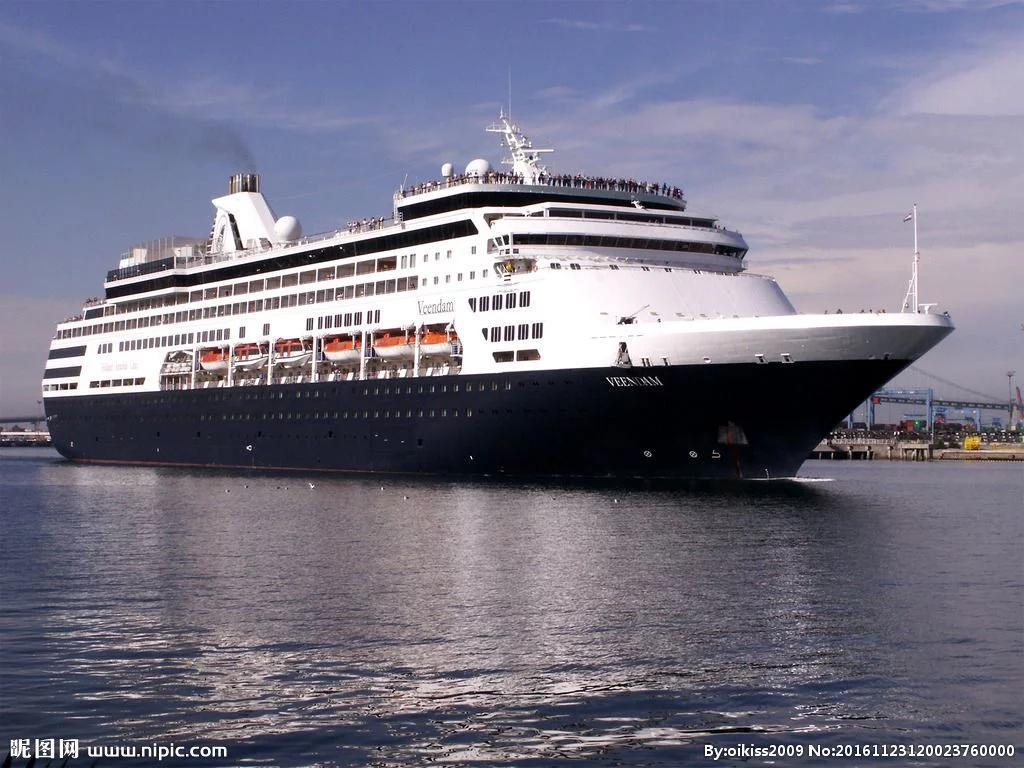youlun: (36, 121, 955, 468)
